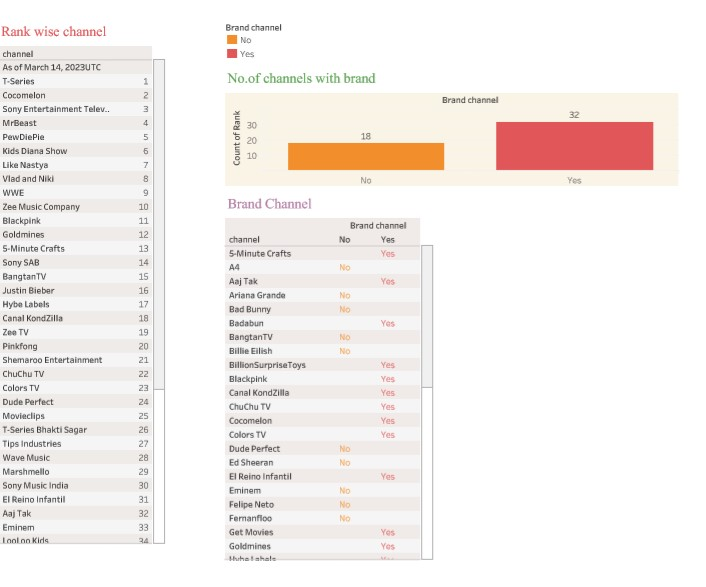

Layout of this report page (visuals, bound fields, positions):
{"tool":"tableau","page":{"name":"Channel Details","canvas":[1000,800],"ordinal":0},"visuals":[{"type":"worksheet","title":"Rank wise channel","mark":"Automatic","rows":["Name"],"box":[8,8,325,784]},{"type":"legend","title":"Brand channel","param":"[federated.0nqqhxk0poh2551dlh06d1626w2r].[none:Brand channel:nk]","box":[333,8,659,66]},{"type":"worksheet","title":"No.of channels with brand","mark":"Automatic","rows":["Rank"],"cols":["Brand channel"],"box":[333,74,659,179]},{"type":"worksheet","title":"Brand channel","mark":"Automatic","rows":["Name"],"cols":["Brand channel"],"box":[333,253,659,539]}]}

Visuals, with their boxes on the page's 1000x800 design canvas (x1, y1, x2, y2). These are canvas units, not pixel positions in the 706x587 screenshot, which may show the page scaled, cropped or inside an application window:
"Rank wise channel" worksheet: {"x1": 8, "y1": 8, "x2": 333, "y2": 792}
"Brand channel" legend: {"x1": 333, "y1": 8, "x2": 992, "y2": 74}
"No.of channels with brand" worksheet: {"x1": 333, "y1": 74, "x2": 992, "y2": 253}
"Brand channel" worksheet: {"x1": 333, "y1": 253, "x2": 992, "y2": 792}
